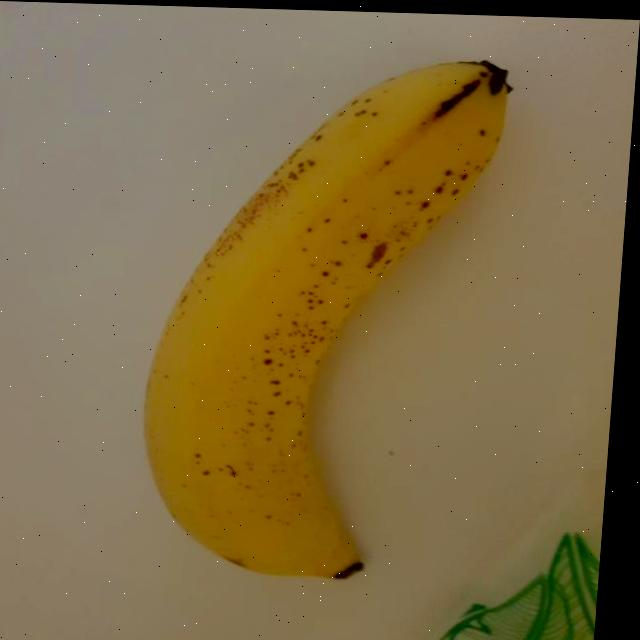banana: (126, 46, 518, 587)
